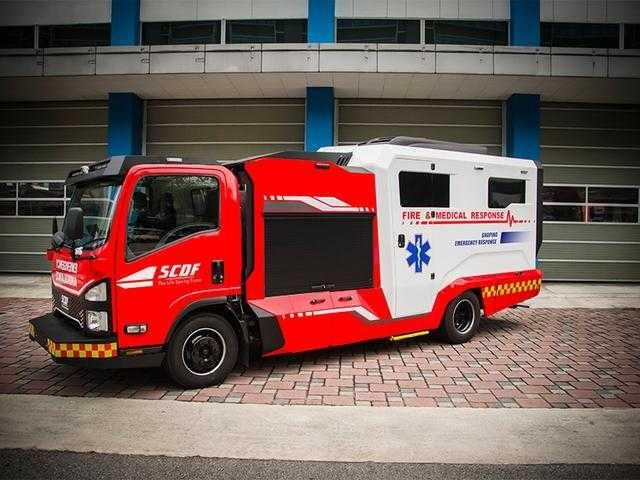car: (28, 135, 543, 388)
